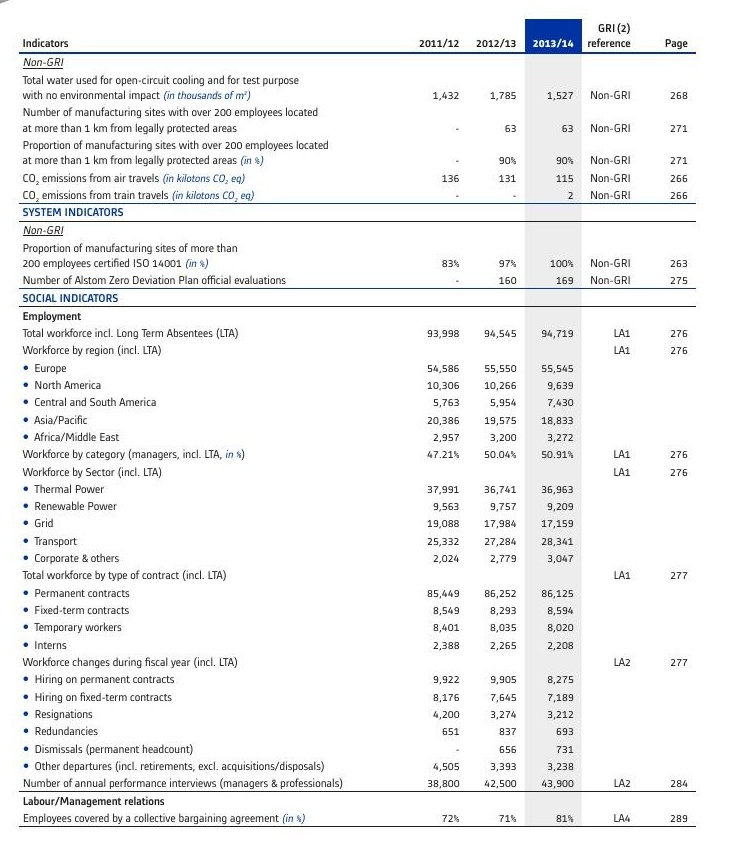table: (0, 0, 734, 846)
